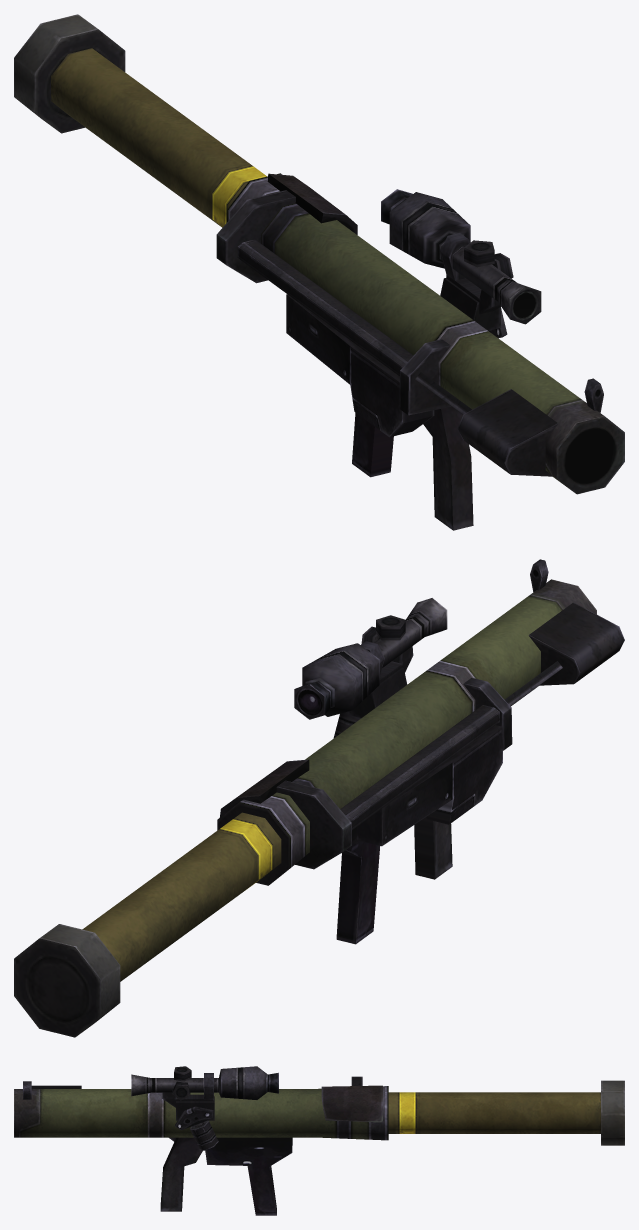
The model's file is SMAW.FBX.
3 views of the same model, one above another, from view 1: azimuth 30°, elevation 25°; view 2: azimuth 150°, elevation 25°; view 3: azimuth 270°, elevation 25° (orthographic). The views are drawn at different scales.
Parts seen in each view (by area): view 1: weapon_smaw; view 2: weapon_smaw; view 3: weapon_smaw.
Part boxes in pixels (box(x1,y1,x2,y2)): weapon_smaw: box(14, 14, 624, 530); weapon_smaw: box(14, 559, 624, 1037); weapon_smaw: box(14, 1066, 624, 1215).
Size of the model in its own units: 11.73 by 74.47 by 21.1.
Materials: 1 (1 with a texture image).
